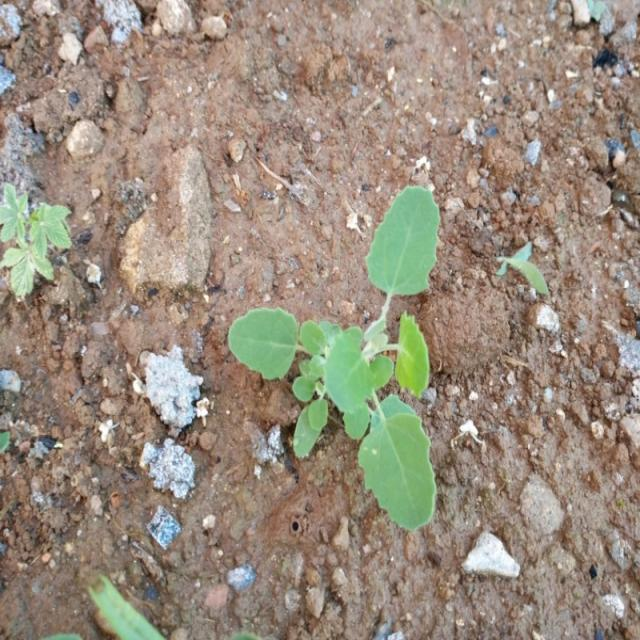ca: (231, 304, 438, 533)
